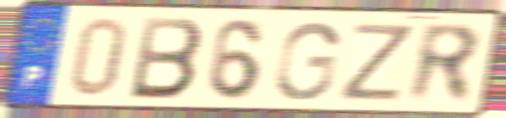0: (66, 15, 128, 100)
6: (205, 17, 268, 104)
B: (127, 15, 207, 103)
G: (272, 20, 342, 103)
R: (406, 20, 483, 106)
Z: (337, 21, 418, 104)
